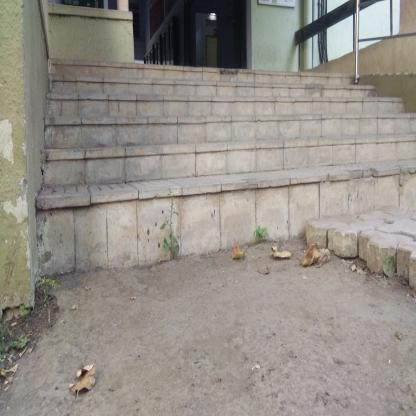stairs: (63, 83, 307, 277)
